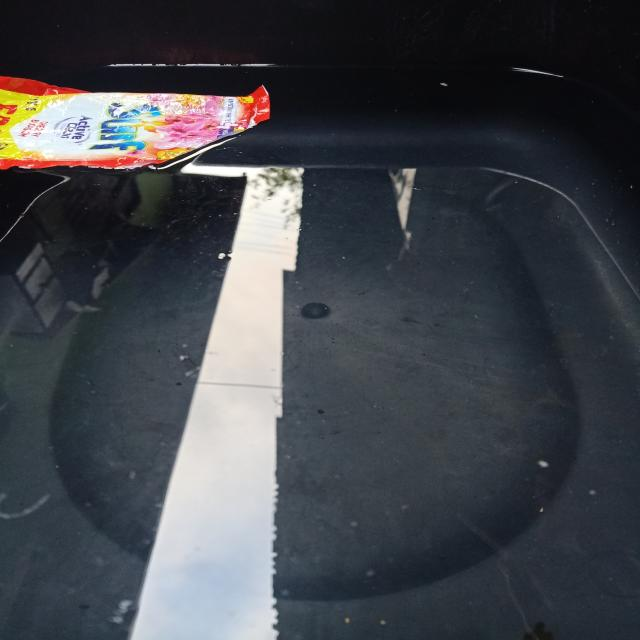Plastic Wrapper: (0, 64, 294, 184)
